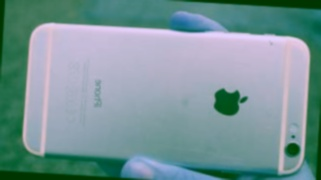iphone: (13, 27, 295, 169)
